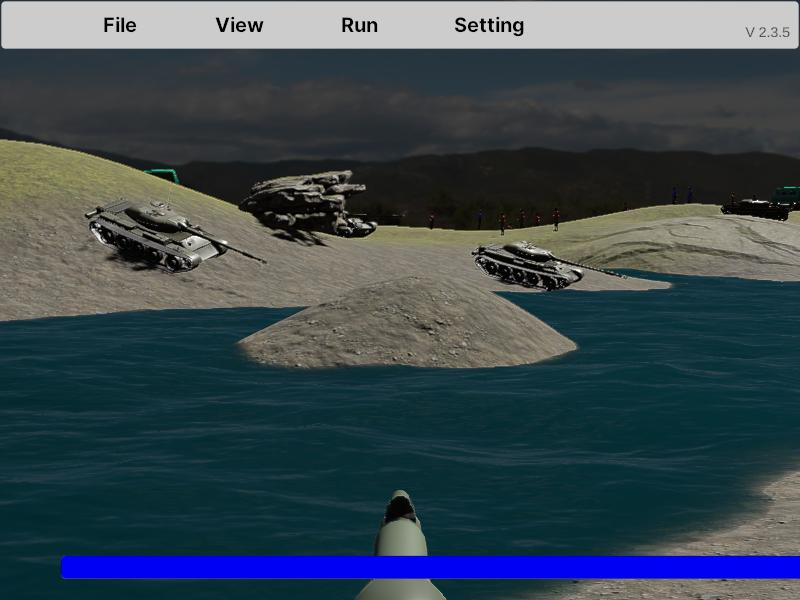Tank: (84, 199, 268, 274), (470, 241, 626, 292)
